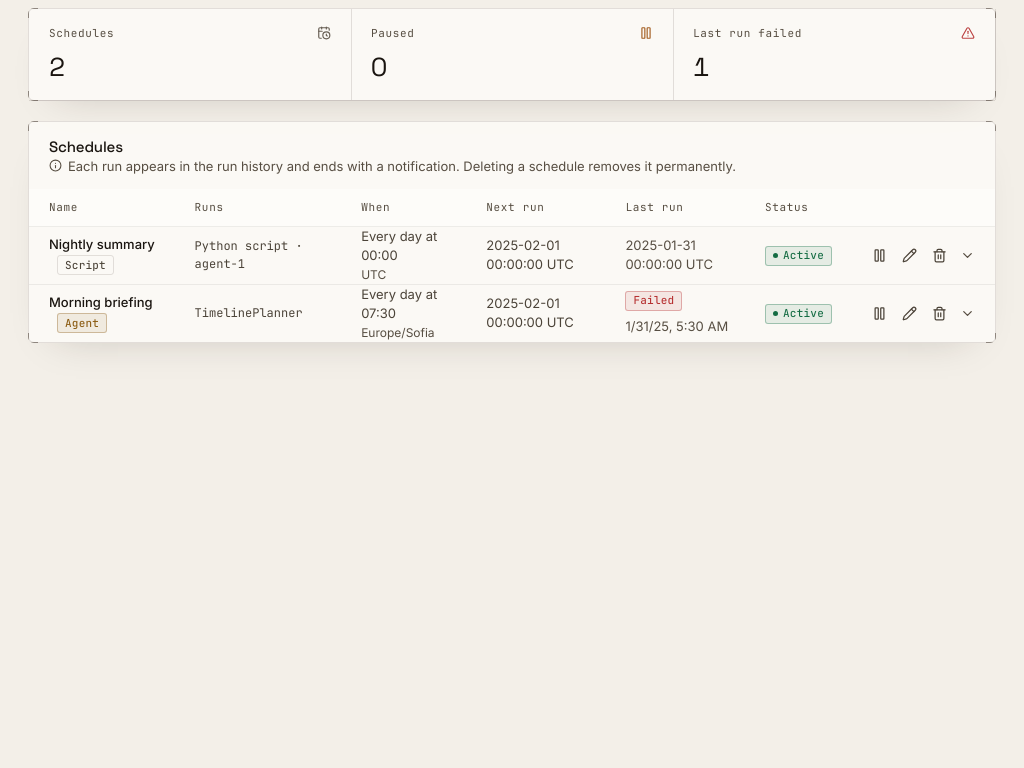
Test: Scheduler interactions › expands a row to reveal the prompt and pre-approvals
The width and height of the screenshot is (1024, 768).
Click the text "Morning briefing": (101, 302) [49, 294, 152, 310]
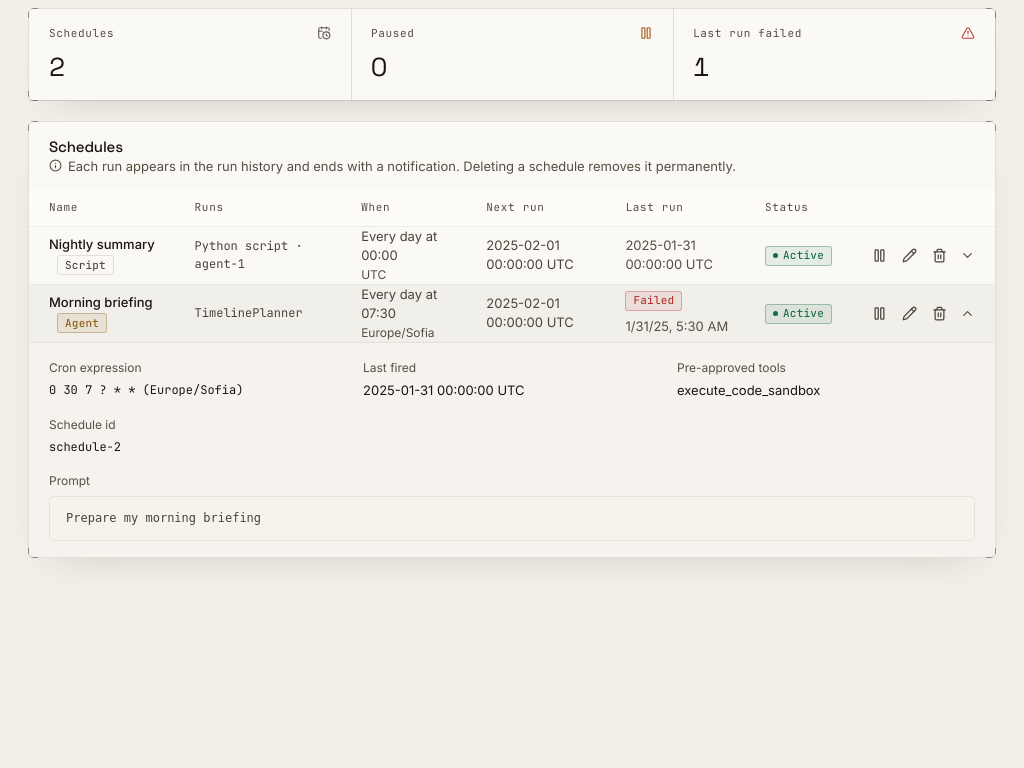
Check: the text "Prepare my morning briefing" is shown, box [66, 511, 261, 525]
Check: the text "execute_code_sandbox" is shown, box [677, 382, 820, 398]
